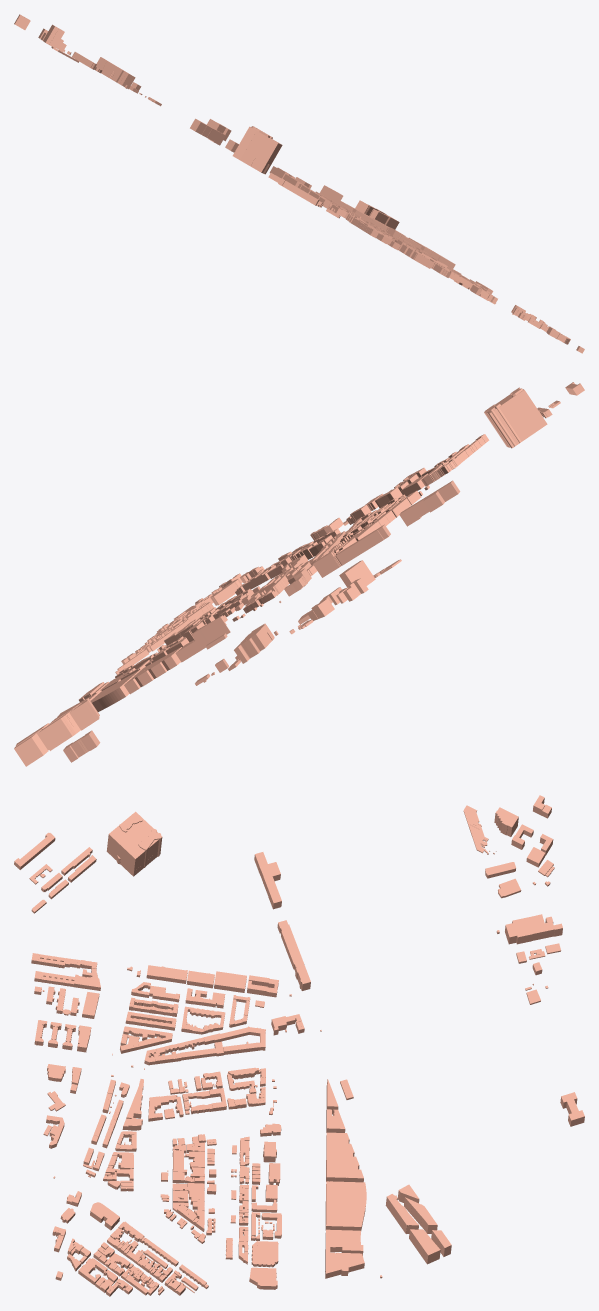
The picture shows the model from 3 angles, top to bottom: view 1: azimuth 30°, elevation 25°; view 2: azimuth 150°, elevation 25°; view 3: azimuth 270°, elevation 25°; orthographic projection. The views are drawn at different scales.
Bounding box in the file's own units: 1063 × 795 × 1292.
